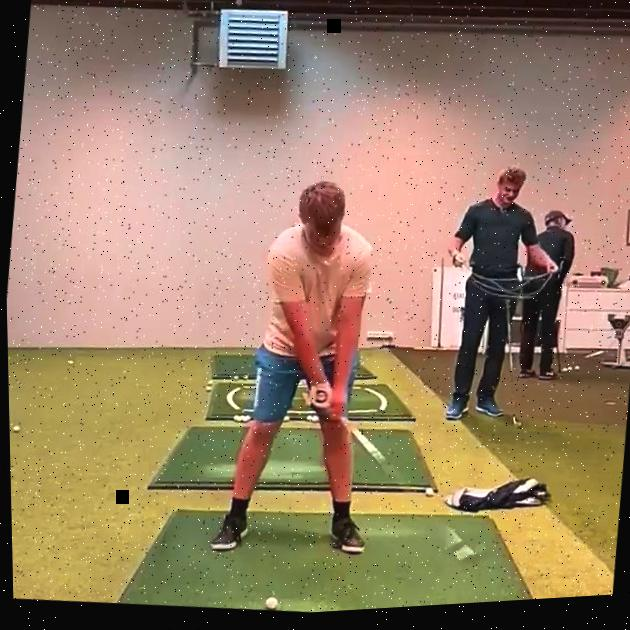ClubHead: (450, 548, 483, 569)
GolfBall: (262, 599, 276, 613)
